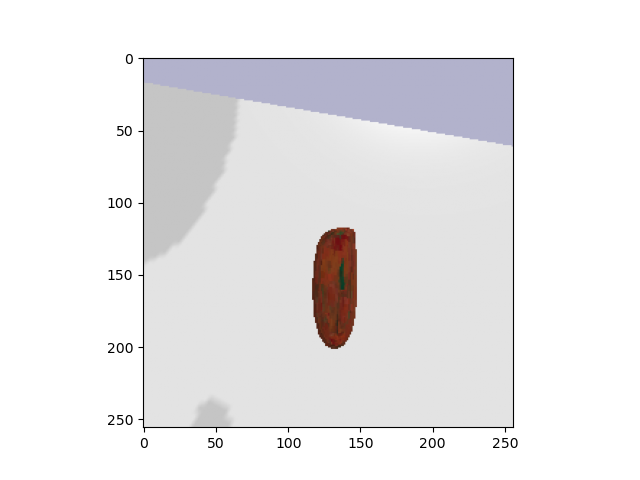v249b387_106: (298, 225, 367, 359)
